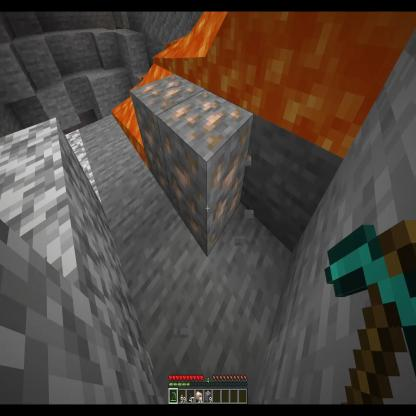iron ore: (157, 88, 253, 254), (128, 74, 206, 204)
